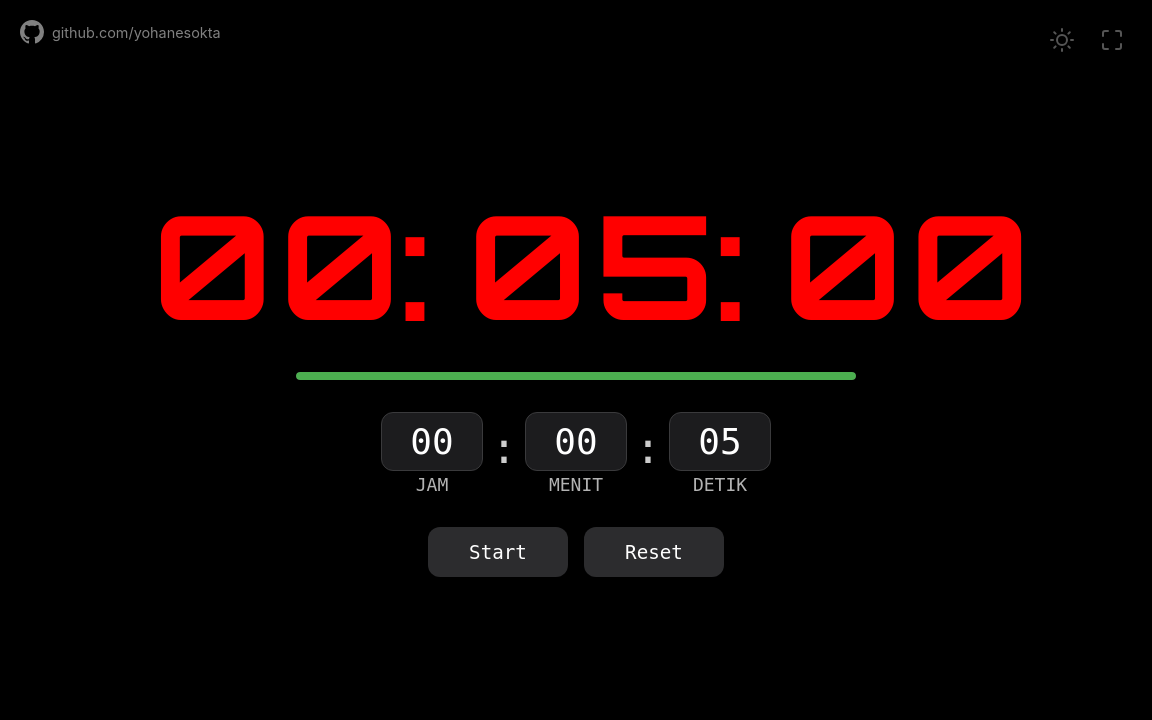
Timer Component › starts and stops the timer
Click the button "Start".
click(498, 552)  # box [428,527,568,577]
Wait 1000 ms
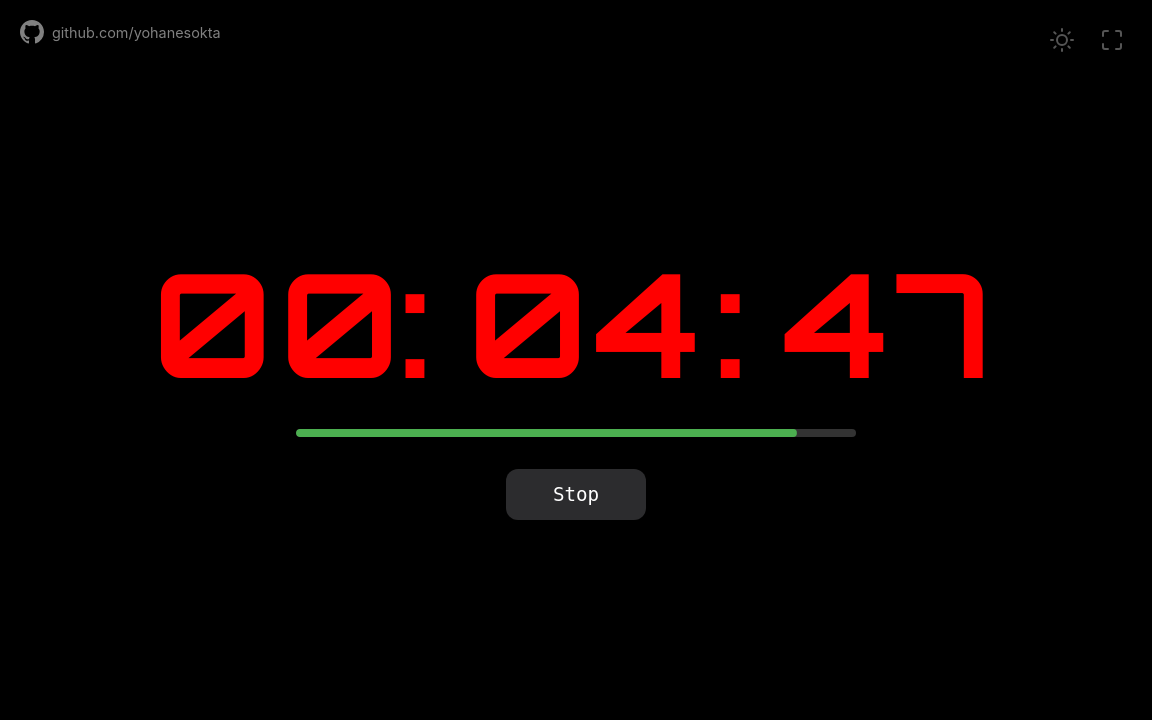
Result: the button "Stop" is shown
Result: the button "Start" is gone
Click the button "Stop".
click(576, 494)  # box [506,469,646,520]
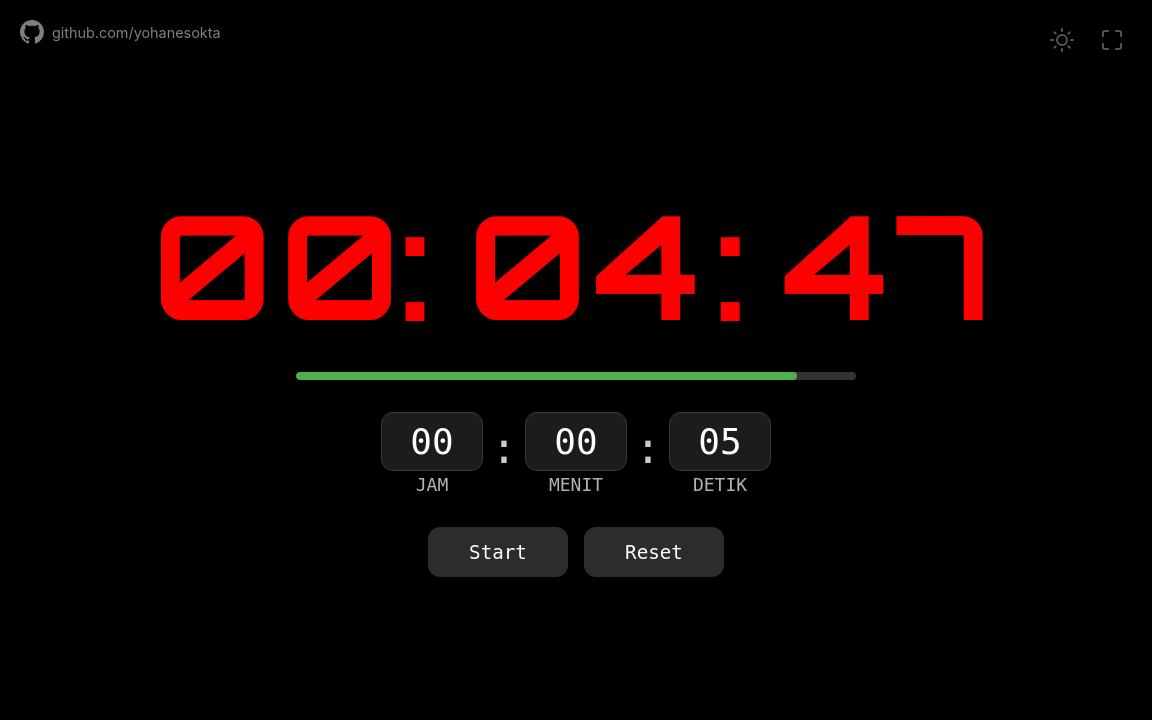
Result: the button "Start" is shown at [428,527,568,577]
Result: the button "Stop" is gone
